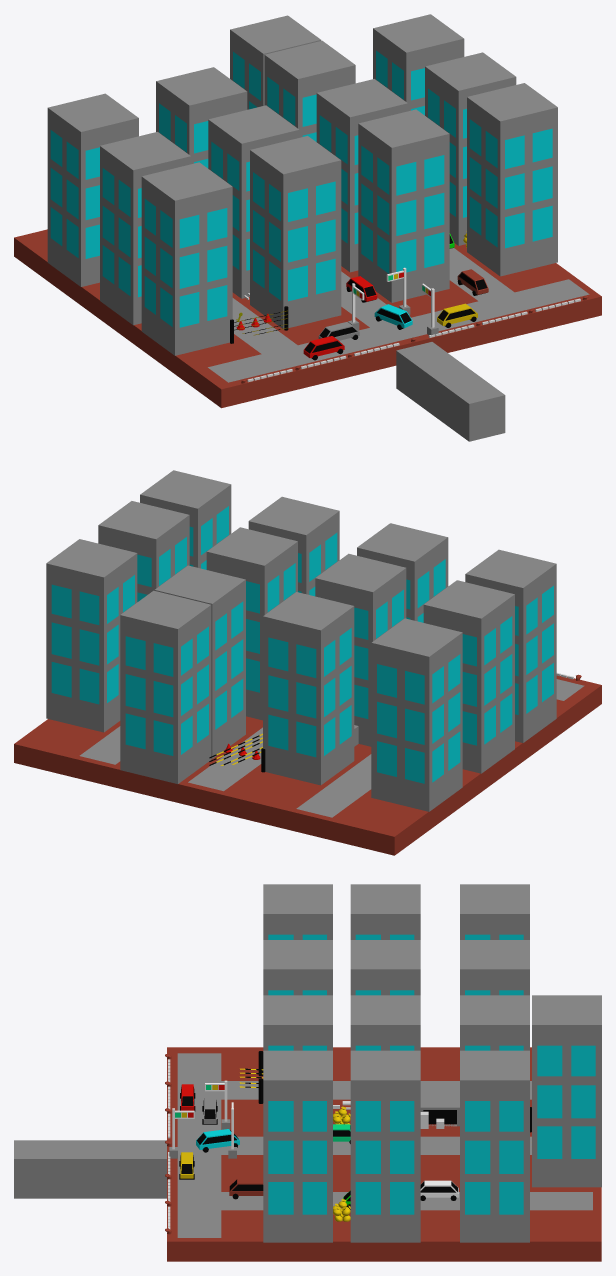
The model's file is Minato.fbx.
3 renders of one model, top to bottom at view 1: azimuth 30°, elevation 25°; view 2: azimuth 150°, elevation 25°; view 3: azimuth 270°, elevation 25°, orthographic. The views are drawn at different scales.
Visible parts, largest first — view 1: Cube, Cube.024, Cube.005, Cube.027, Cube.003, Cube.026, Cube.025, Cube.043, Cube.002, Cube.006, Cube.028, Plane (+11 smaller); view 2: Cube, Cube.026, Cube.044, Cube.007, Cube.029, Cube.025, Cube.024, Cube.004, Cube.006, Cube.002, Cube.028, Cube.005 (+5 smaller); view 3: Cube, Cube.028, Cube.027, Cube.029, Cube.044, Cube.043, Plane, Cube.002, Cube.025, Cube.006, Cube.003, Cube.004 (+11 smaller).
Part boxes in pixels (x1,y1,x2,y2): Cube: (14, 229, 601, 408); Cube.024: (141, 162, 232, 355); Cube.005: (250, 136, 341, 329); Cube.027: (467, 83, 557, 276); Cube.003: (358, 109, 449, 302); Cube.026: (47, 93, 138, 286); Cube.025: (100, 132, 190, 325); Cube.043: (396, 342, 505, 441); Cube.002: (316, 79, 407, 272); Cube.006: (208, 105, 299, 298); Cube.028: (425, 52, 516, 245); Plane: (208, 279, 589, 382); Cube: (14, 675, 601, 855); Cube.026: (371, 618, 462, 811); Cube.044: (120, 590, 211, 783); Cube.007: (263, 592, 354, 785); Cube.029: (46, 539, 137, 732); Cube.025: (423, 580, 514, 773); Cube.024: (465, 549, 556, 742); Cube.004: (154, 565, 245, 758); Cube.006: (315, 553, 406, 746); Cube.002: (206, 527, 297, 720); Cube.028: (98, 501, 189, 601); Cube.005: (357, 523, 448, 622); Cube: (167, 1047, 601, 1261); Cube.028: (350, 1050, 420, 1242); Cube.027: (263, 1050, 332, 1242); Cube.029: (460, 1050, 529, 1242); Cube.044: (532, 995, 601, 1187); Cube.043: (14, 1140, 166, 1198); Plane: (177, 1053, 221, 1237); Cube.002: (350, 995, 420, 1050); Cube.025: (350, 884, 420, 939); Cube.006: (350, 940, 420, 995); Cube.003: (263, 995, 332, 1050); Cube.004: (460, 995, 529, 1050).
Bounding box in the file's own units: 212 × 104 × 269.
